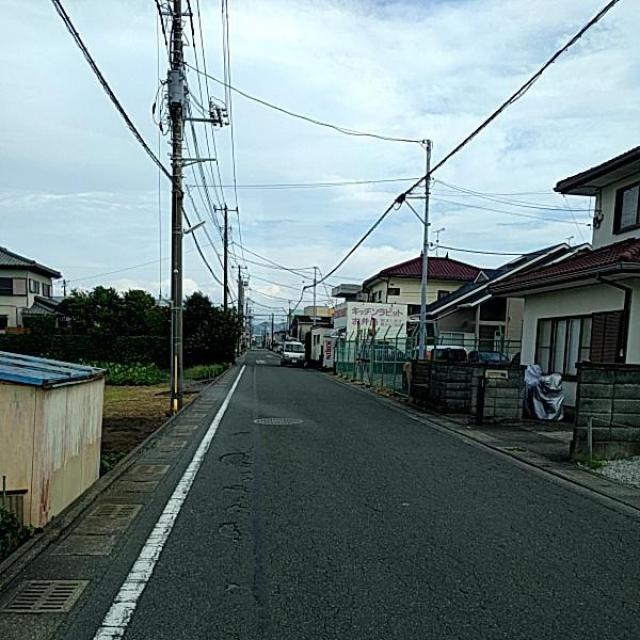Crack: (432, 413, 619, 563), (182, 434, 292, 633)
